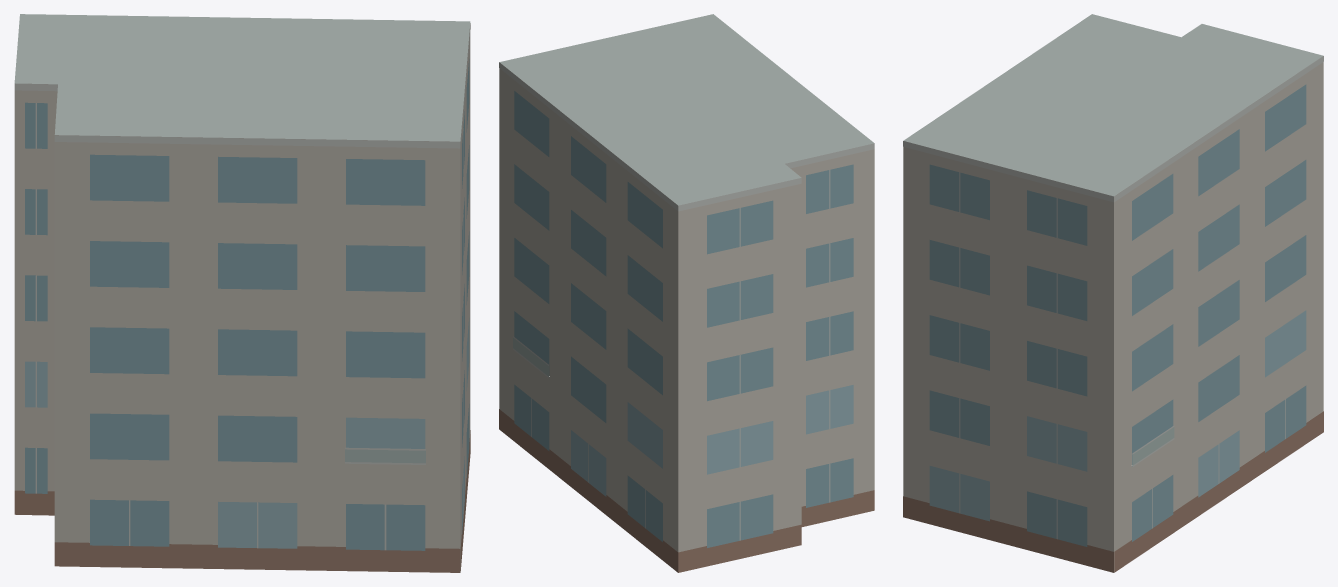
File: survey-upis-32675023.glb
3 renders of one model, left to right at view 1: azimuth 30°, elevation 25°; view 2: azimuth 150°, elevation 25°; view 3: azimuth 270°, elevation 25°, orthographic. The views are drawn at different scales.
Parts seen in each view (by area): view 1: survey-upis-32675023.tmp; view 2: survey-upis-32675023.tmp; view 3: survey-upis-32675023.tmp.
Part boxes in pixels (box(x1,y1,x2,y2)): survey-upis-32675023.tmp: box(14, 14, 470, 572); survey-upis-32675023.tmp: box(499, 14, 874, 572); survey-upis-32675023.tmp: box(903, 14, 1323, 572).
Size of the model in its own units: 15.86 by 15.25 by 15.45.
